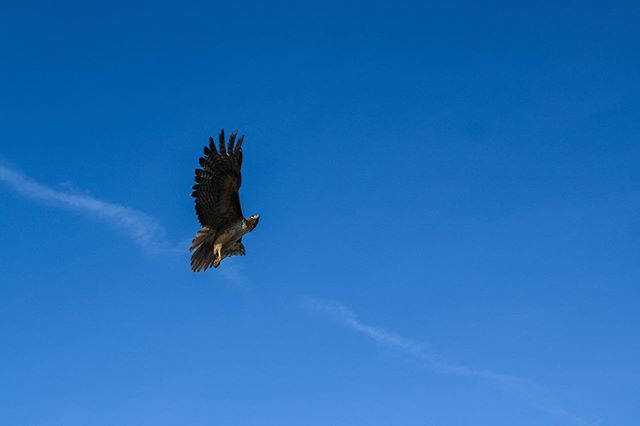animal: (183, 125, 267, 286)
sky: (1, 1, 638, 420)
